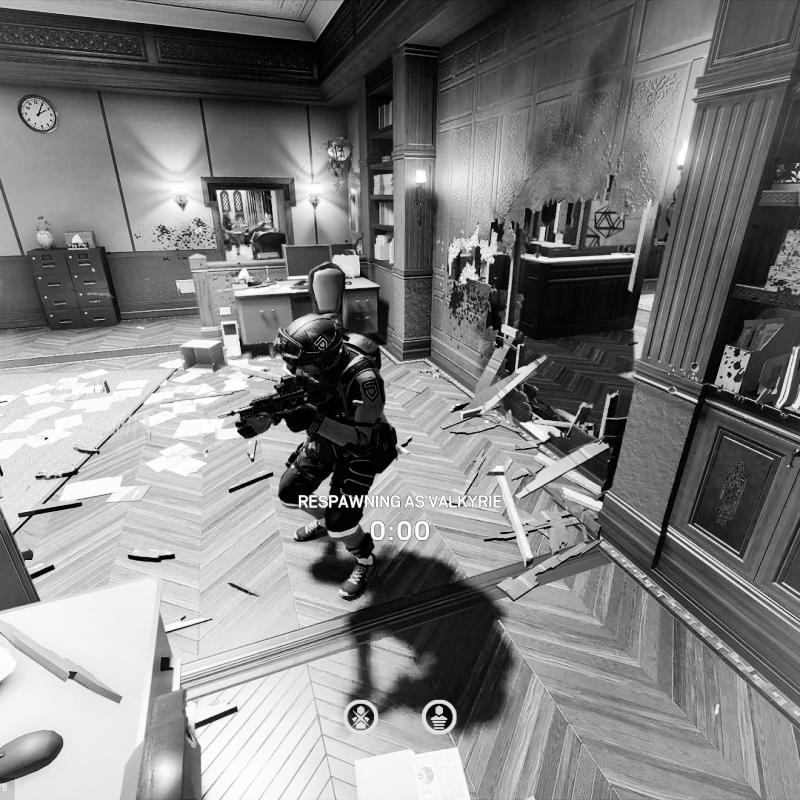Character: (219, 304, 403, 607), (222, 211, 244, 258)
Head: (272, 308, 352, 381), (228, 212, 236, 220)
